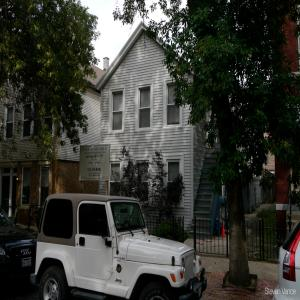Vehicle-registration-plate: (23, 258, 33, 269)
